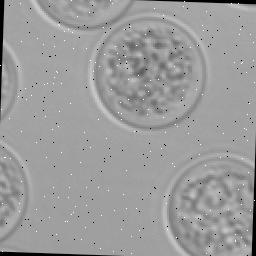picoshell: (88, 13, 206, 132), (163, 153, 255, 256), (29, 0, 130, 33), (0, 142, 28, 244), (0, 40, 22, 122), (230, 3, 256, 11)
